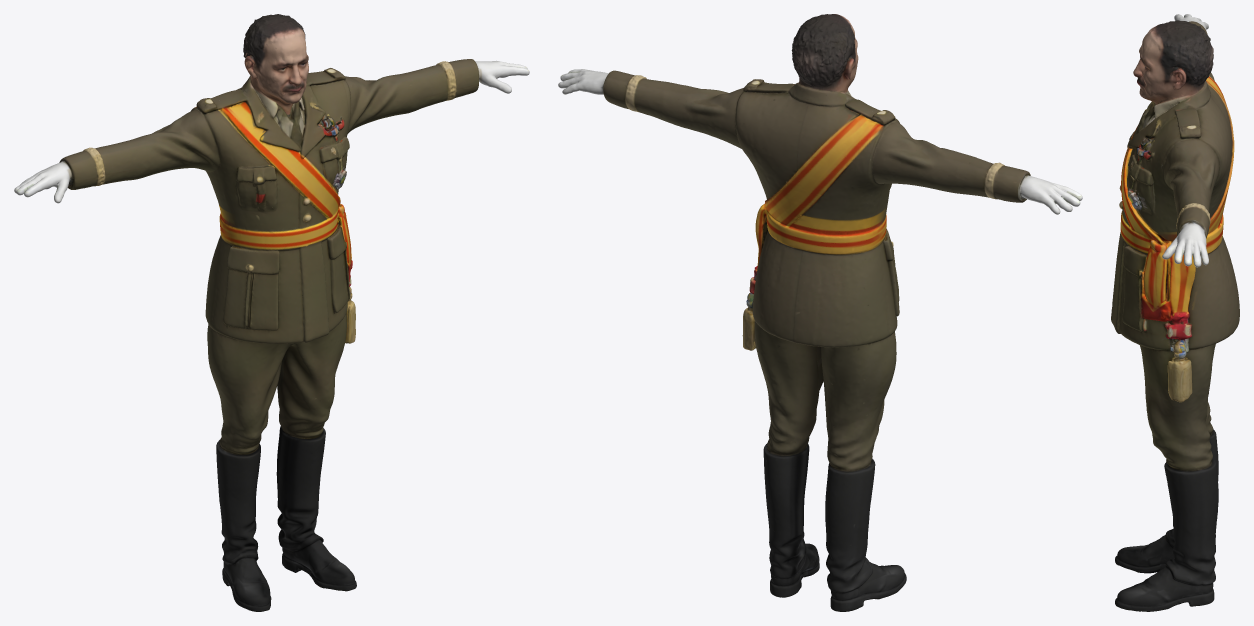
File: franco.glb
3 renders of one model, left to right at view 1: azimuth 30°, elevation 25°; view 2: azimuth 150°, elevation 25°; view 3: azimuth 270°, elevation 25°, orthographic.
Bounding box in the file's own units: 1.81 × 1.9 × 0.396.
Materials: 1 (1 with a texture image).
